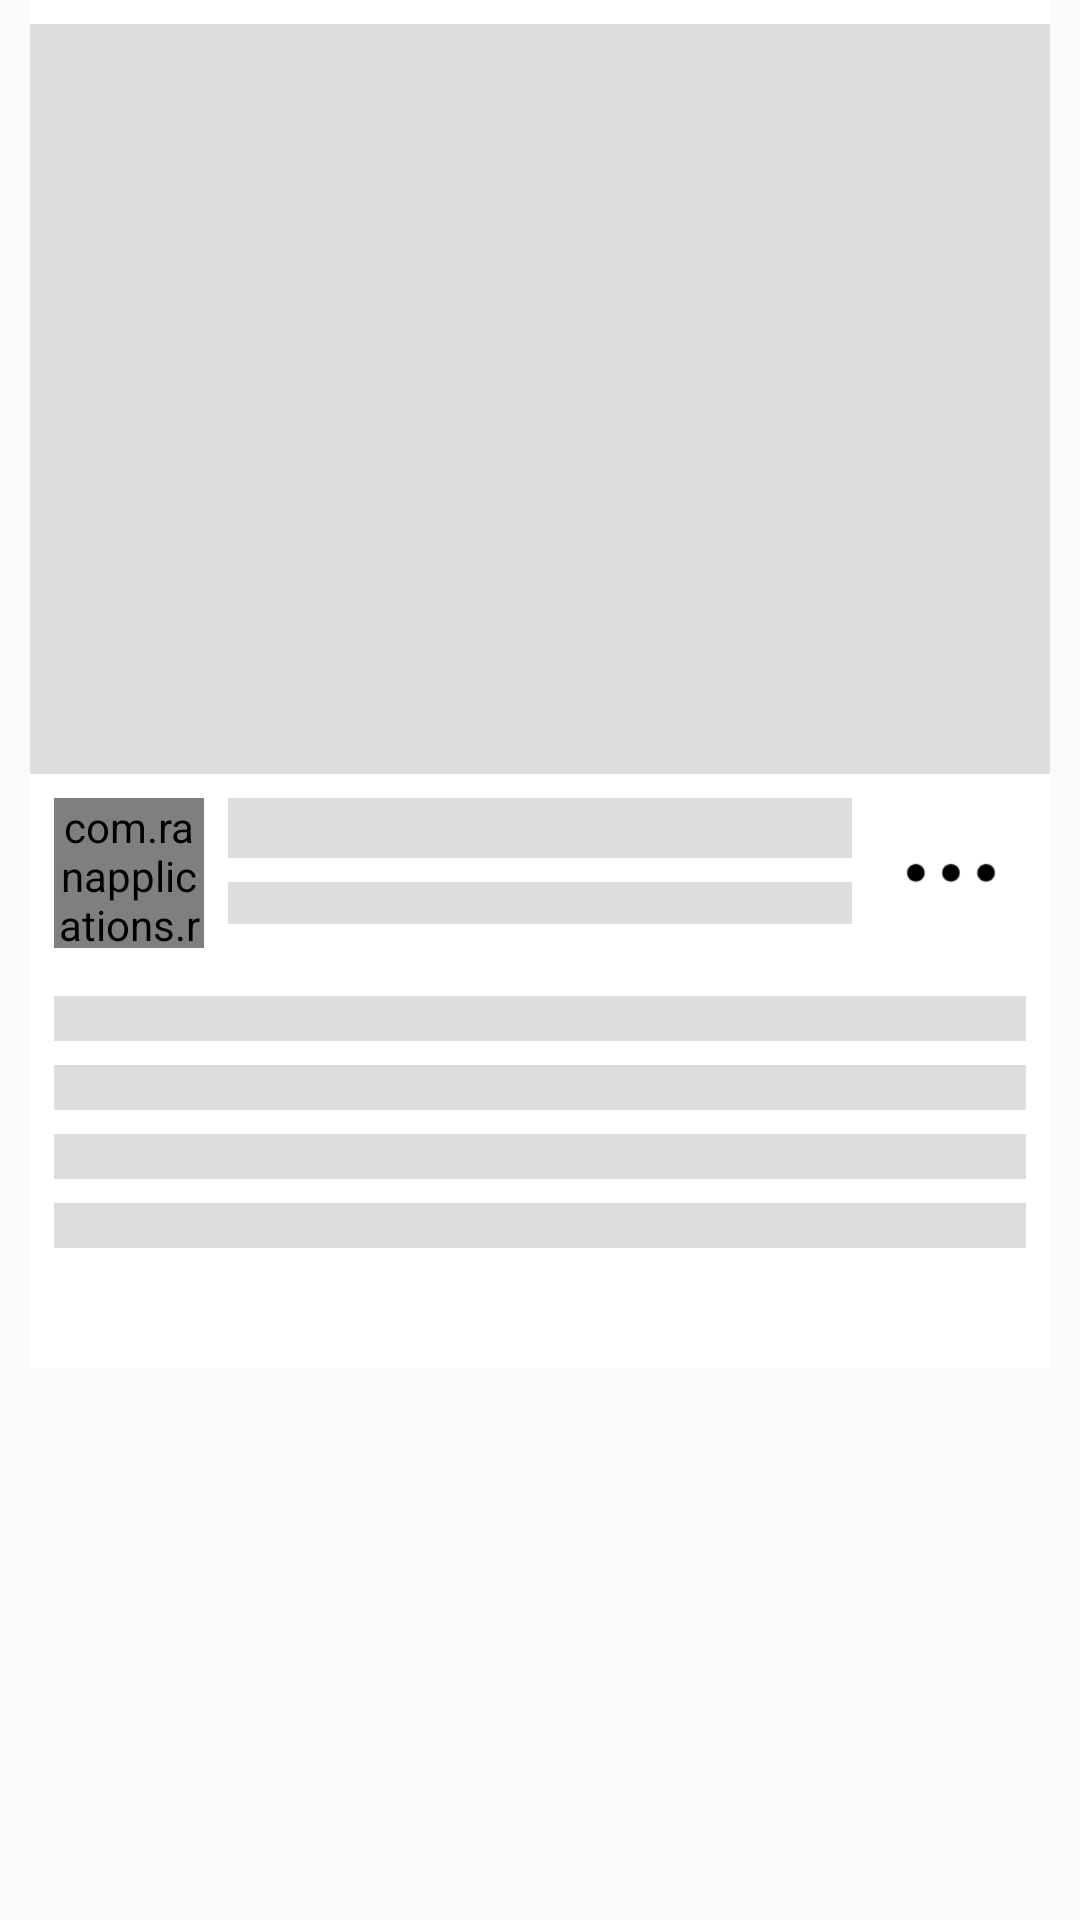

Icons on this 1080*1920 Android screen, each with the point to tap as point (x, y):
options: point (951, 872)
